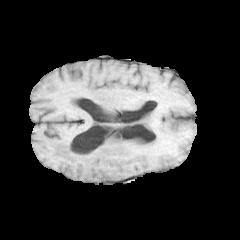glioma: (49, 115, 190, 172)
